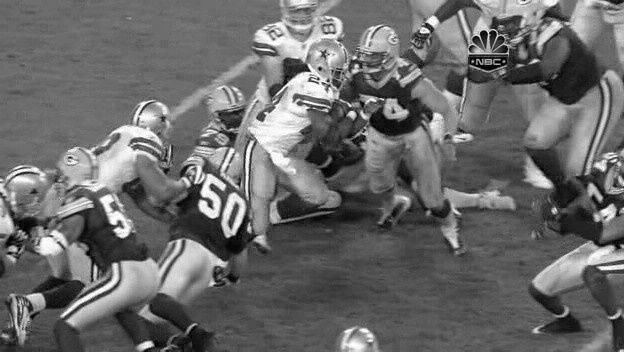person: (316, 39, 350, 83), (315, 39, 349, 83), (317, 39, 351, 83), (316, 38, 350, 82), (316, 40, 350, 84)
target_negative: (319, 240, 506, 332), (530, 26, 622, 162), (184, 300, 333, 342), (547, 239, 566, 326), (517, 269, 533, 320), (462, 140, 484, 164)
